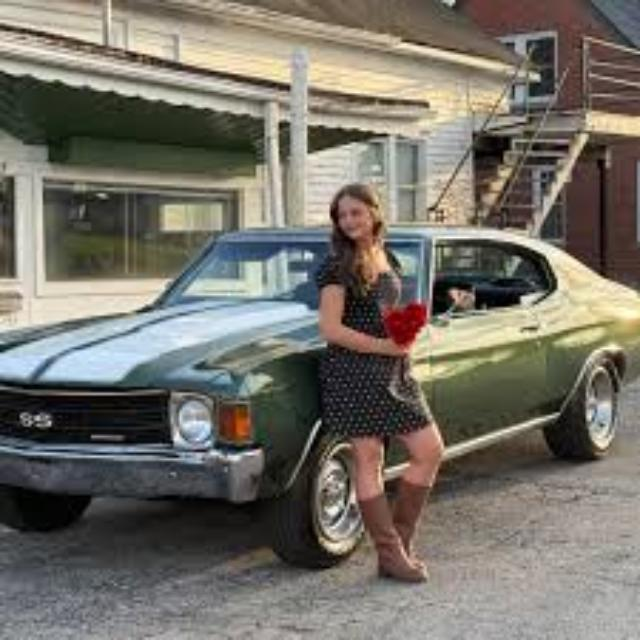chevelle-1972: (0, 228, 358, 563), (390, 222, 637, 455)
